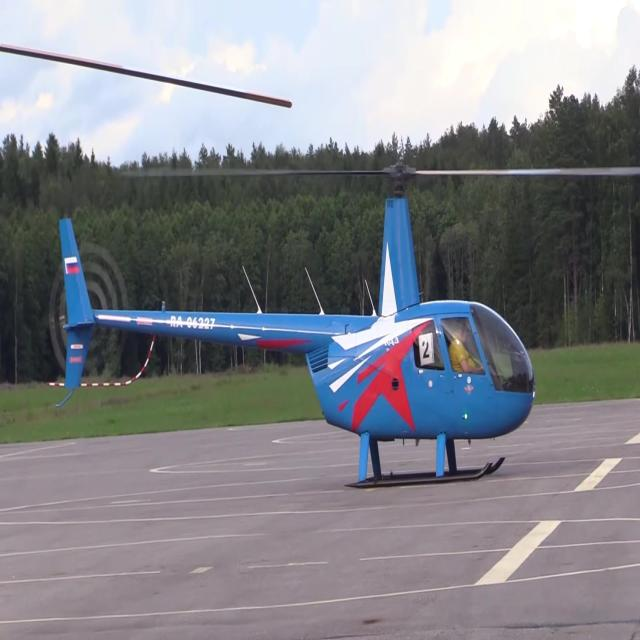CIV_HELO: (58, 161, 536, 490)
